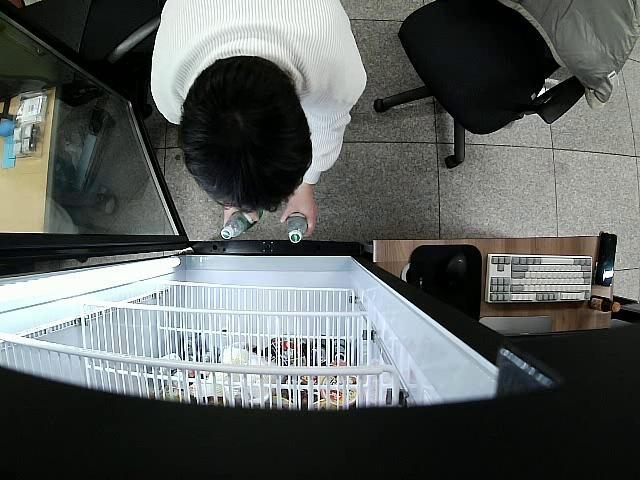18_trevi: (221, 208, 265, 240), (285, 210, 307, 244)
